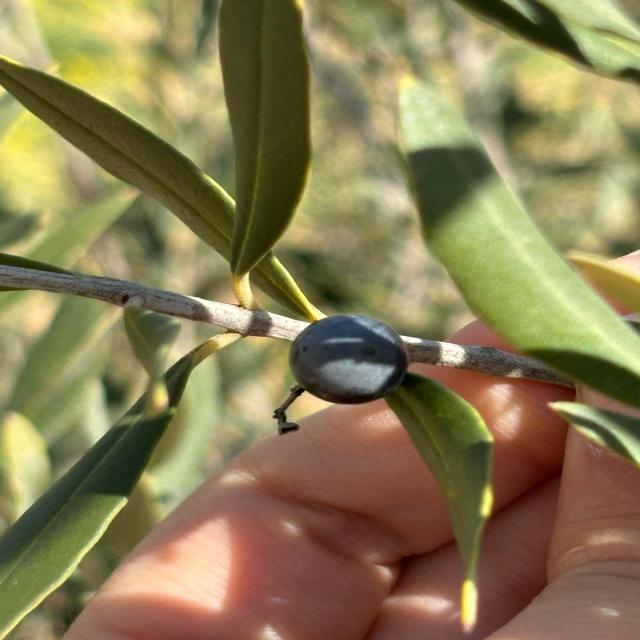Healthy: (0, 336, 235, 640), (219, 0, 311, 306), (289, 314, 409, 404)
